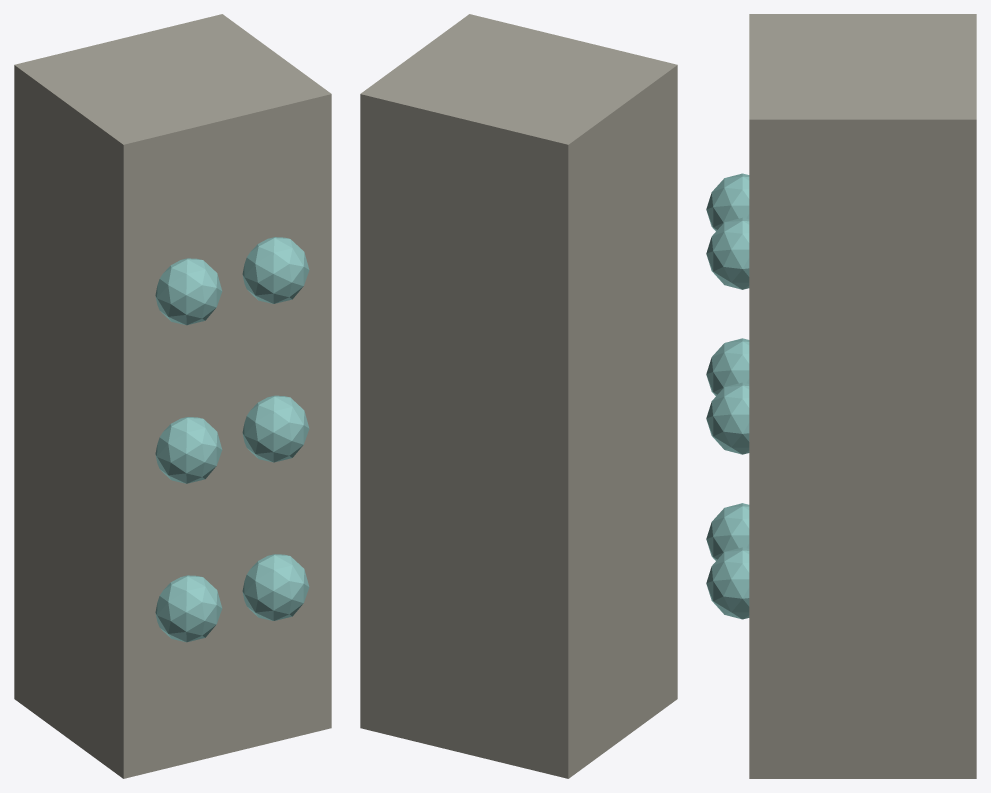
The model's file is stone_totem.glb.
3 views of the same model, side by side, from view 1: azimuth 30°, elevation 25°; view 2: azimuth 150°, elevation 25°; view 3: azimuth 270°, elevation 25° (orthographic). The views are drawn at different scales.
Parts seen in each view (by area): view 1: body, eyeL2, eyeL0, eyeR2, eyeR0, eyeR1, eyeL1; view 2: body; view 3: body, eyeR1, eyeR0, eyeR2, eyeL0, eyeL1, eyeL2.
Boxes of the visible parts, box(x1,y1,x2,y2) form: body: box(14, 14, 331, 778); eyeL2: box(155, 258, 222, 325); eyeL0: box(155, 575, 222, 642); eyeR2: box(242, 237, 309, 303); eyeR0: box(242, 554, 309, 620); eyeR1: box(242, 395, 309, 462); eyeL1: box(155, 417, 222, 483); body: box(360, 14, 677, 778); body: box(749, 14, 976, 778); eyeR1: box(706, 382, 749, 454); eyeR0: box(706, 547, 749, 619); eyeR2: box(706, 217, 749, 289); eyeL0: box(706, 503, 749, 560); eyeL1: box(706, 338, 749, 395); eyeL2: box(706, 173, 749, 231).
Bounding box in the file's own units: 1.1 × 3.2 × 1.19.
